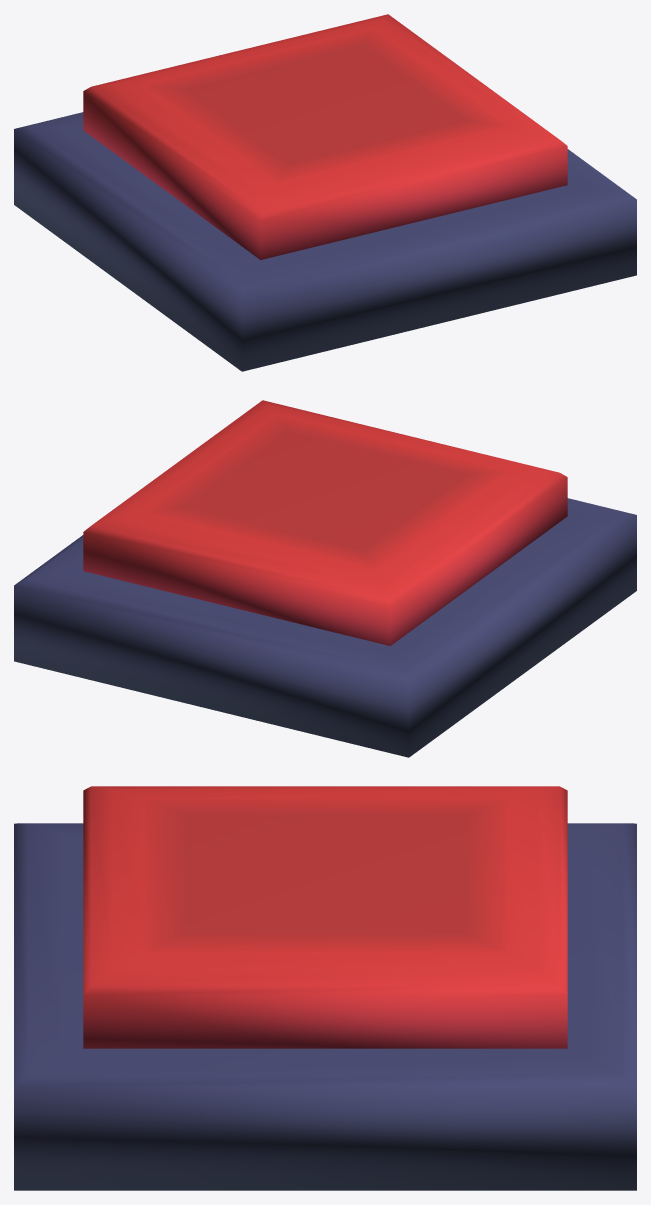
File: Button.fbx
The picture shows the model from 3 angles, top to bottom: view 1: azimuth 30°, elevation 25°; view 2: azimuth 150°, elevation 25°; view 3: azimuth 270°, elevation 25°; orthographic projection. The views are drawn at different scales.
Parts seen in each view (by area): view 1: ButtonTop, Button; view 2: ButtonTop, Button; view 3: ButtonTop, Button.
Boxes of the visible parts, left/top/right/bottom form: ButtonTop: left=83, top=14, right=567, bottom=259; Button: left=14, top=112, right=636, bottom=371; ButtonTop: left=83, top=400, right=567, bottom=645; Button: left=14, top=498, right=636, bottom=757; ButtonTop: left=83, top=786, right=567, bottom=1048; Button: left=14, top=823, right=636, bottom=1190.
Bounding box in the file's own units: 200 × 66.78 × 200.
